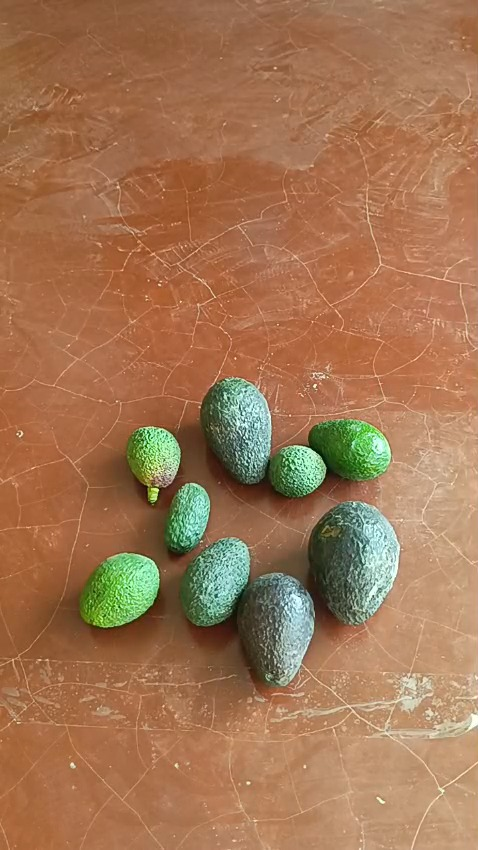Primera: (308, 499, 401, 623), (236, 573, 314, 684), (200, 376, 273, 484)
Segunda: (179, 537, 251, 625), (79, 552, 161, 628), (308, 418, 390, 481)
Tercera: (164, 481, 210, 554), (126, 426, 181, 486), (268, 444, 328, 497)
